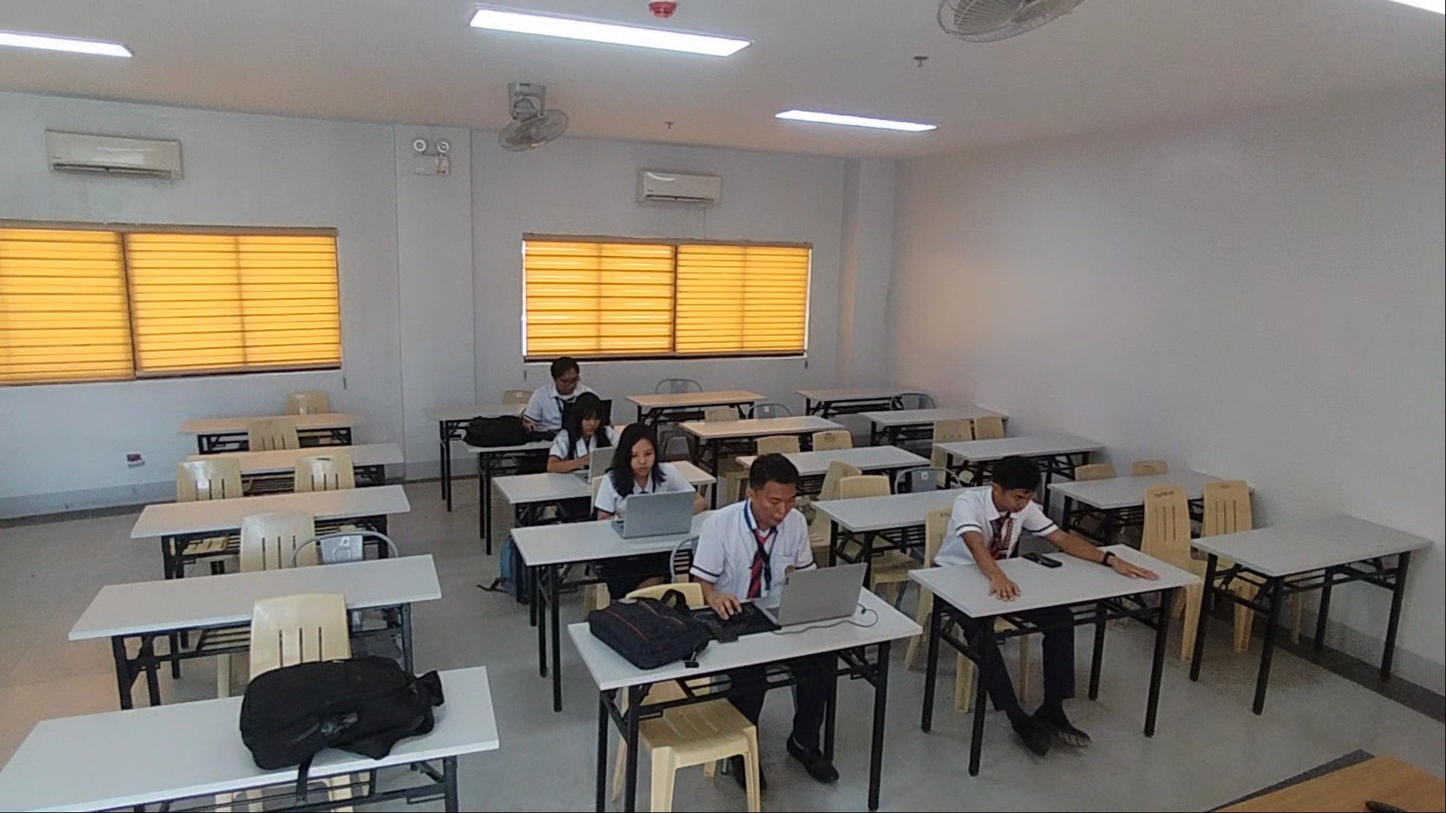with-student: (567, 450, 924, 719), (906, 460, 1205, 654), (507, 417, 758, 575), (490, 387, 724, 511), (462, 356, 666, 457)
